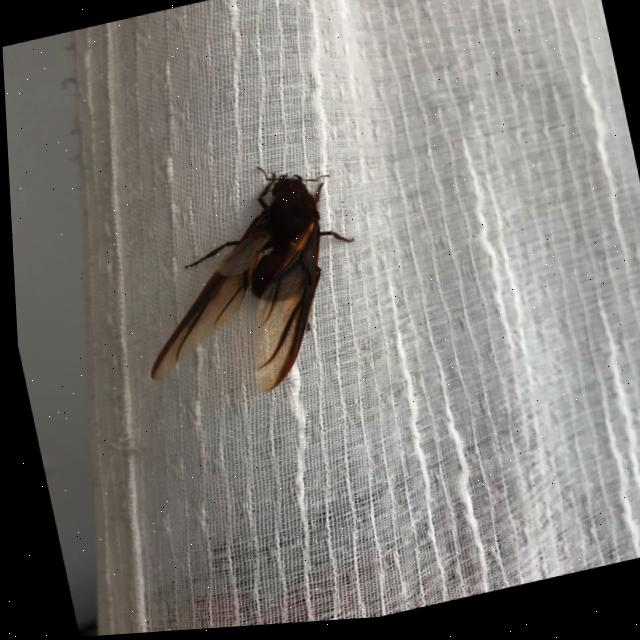Alive-Female-Alate: (109, 152, 378, 420)
